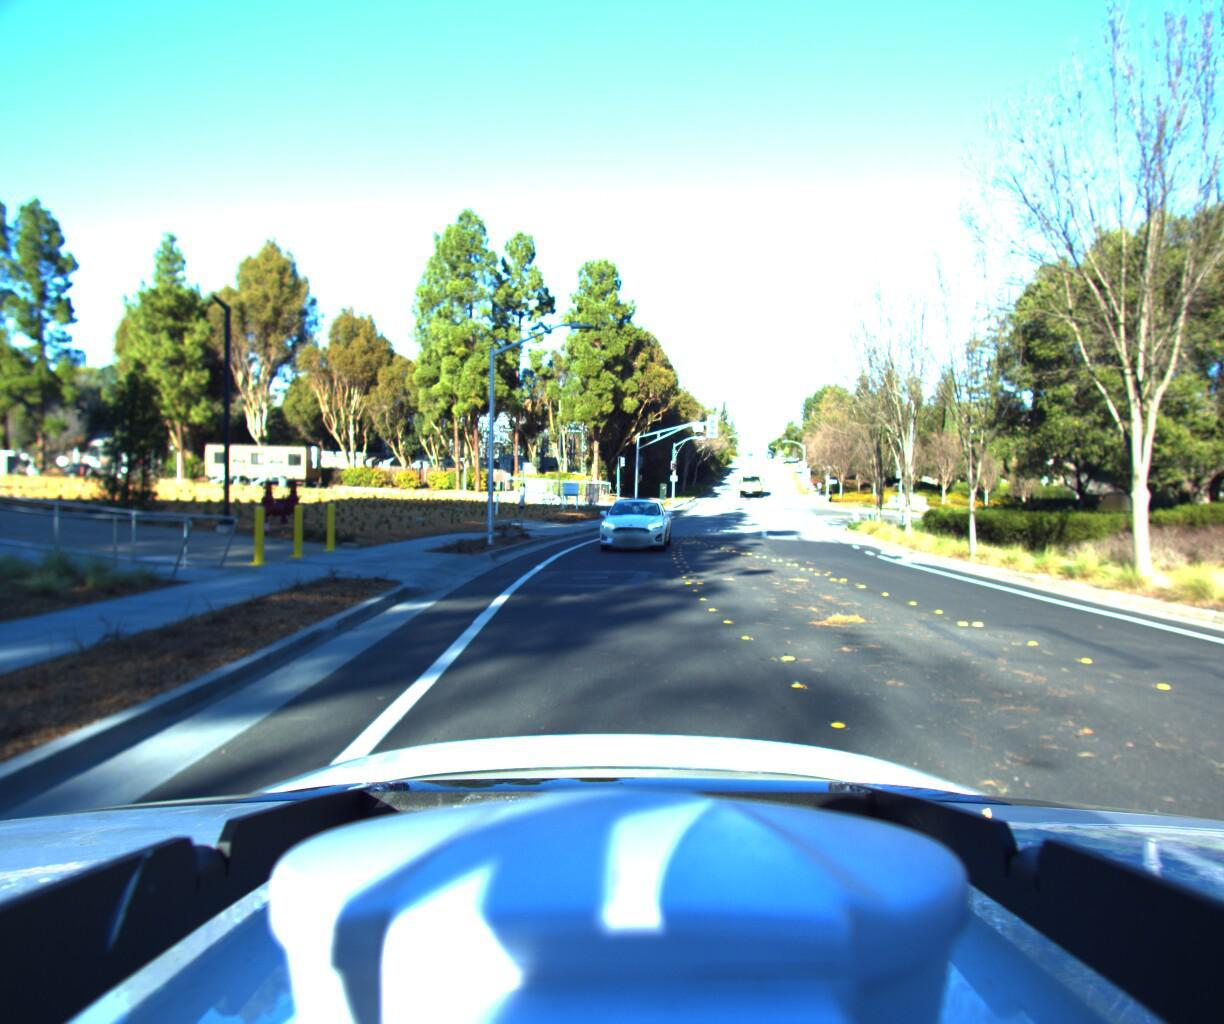car: (596, 483, 680, 553)
